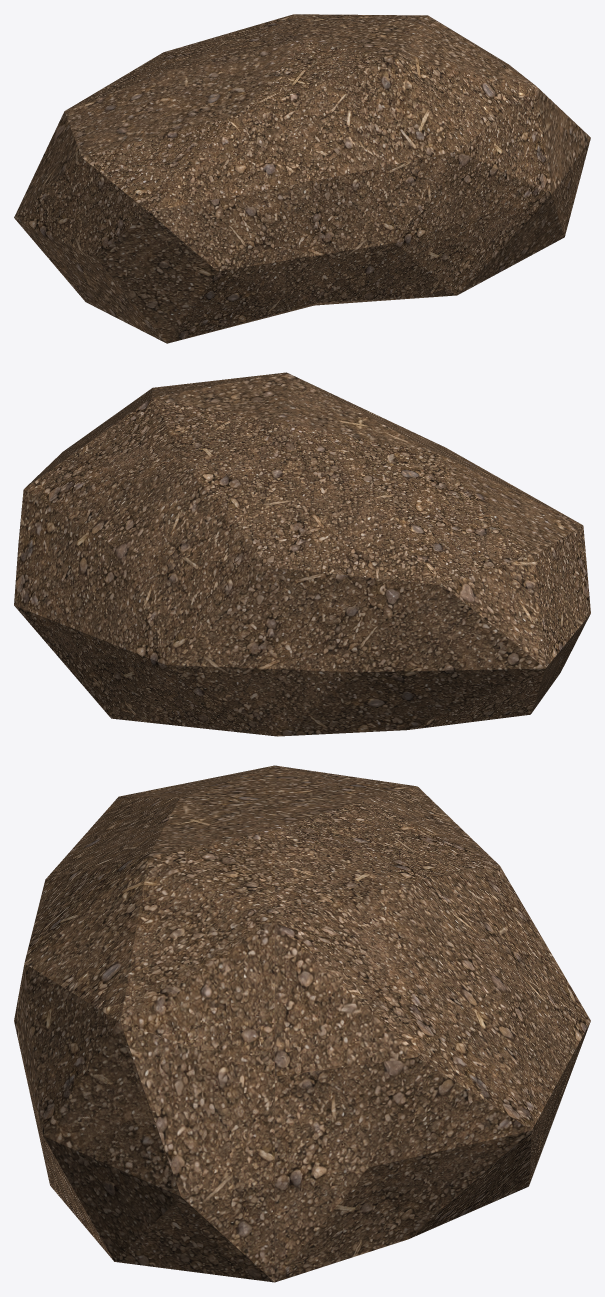
The model's file is Rock_01.fbx.
3 renders of one model, top to bottom at view 1: azimuth 30°, elevation 25°; view 2: azimuth 150°, elevation 25°; view 3: azimuth 270°, elevation 25°, orthographic. The views are drawn at different scales.
Visible parts, largest first — view 1: HW_Rock_01_Export; view 2: HW_Rock_01_Export; view 3: HW_Rock_01_Export.
Part boxes in pixels (left/top/right/bottom): HW_Rock_01_Export: left=14, top=14, right=590, bottom=343; HW_Rock_01_Export: left=14, top=372, right=590, bottom=736; HW_Rock_01_Export: left=14, top=765, right=590, bottom=1282.
Bounding box in the file's own units: 176 × 72.13 × 121.
1 material, 1 textured.
